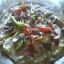pepper: (23, 23, 38, 40), (9, 14, 26, 28), (13, 38, 28, 51), (35, 22, 53, 32)
pizza: (3, 5, 61, 60)
